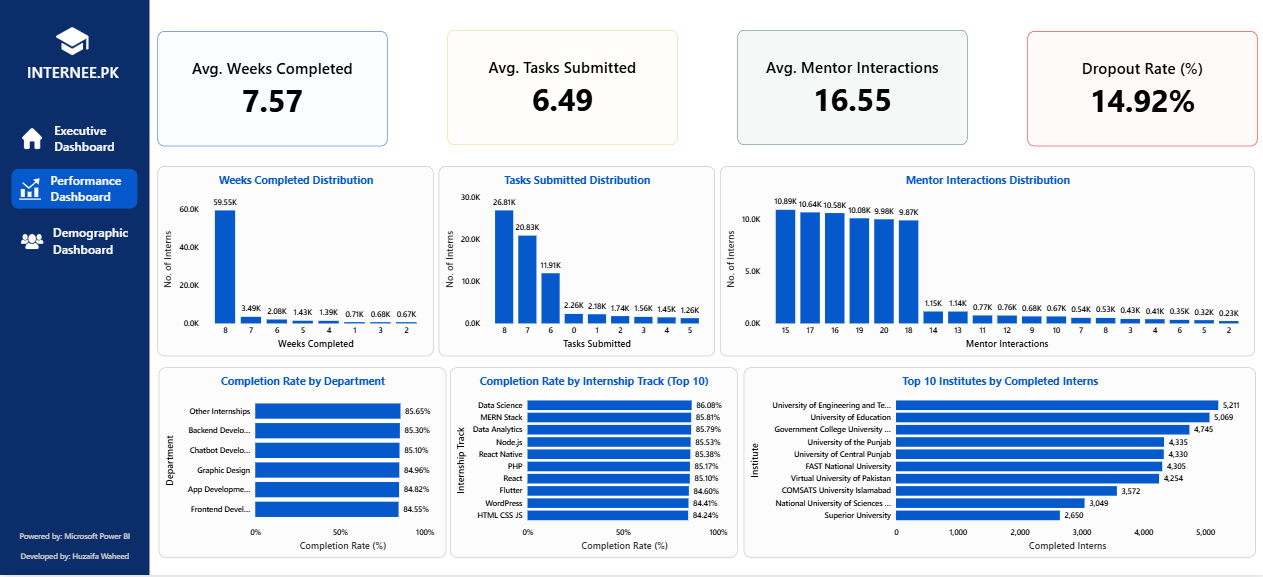

The page's visual inventory and layout, read from the dashboard file:
{"tool":"powerbi","page":{"name":"Performance Dashboard","canvas":[2200,1000],"ordinal":1},"visuals":[{"type":"shape","box":[0,0,260,1000],"z":0},{"type":"image","box":[27.6,308.3,45.7,40],"z":0,"group":"g6"},{"type":"image","box":[32.1,399.7,45.7,40],"z":0,"group":"g4"},{"type":"image","box":[95.7,41.4,60,60],"z":1000},{"type":"shape","box":[19.2,294,219.6,69.6],"z":1000,"group":"g1"},{"type":"textbox","box":[81.6,294,150,70],"z":1000,"group":"g6"},{"type":"textbox","box":[86.4,384,150,70],"z":1000,"group":"g4"},{"type":"textbox","box":[36,102,180,50.4],"z":2000},{"type":"group","id":"g1","title":"Group 4","box":[19.2,294,219.6,69.6],"z":3000},{"type":"group","id":"g2","title":"Group 5","box":[19.2,206.4,220.8,70.8],"z":4000},{"type":"image","box":[31.8,222.1,45.7,40],"z":4000,"group":"g5"},{"type":"textbox","box":[88.9,206.4,150,70],"z":5000,"group":"g5"},{"type":"group","id":"g3","title":"Group 6","box":[19.2,384,220.8,70.8],"z":5000},{"type":"group","id":"g4","title":"Group 3","box":[32.1,384,204.3,70],"z":5000,"group":"g3"},{"type":"cardVisual","fields":{"Data":["internship_program_2025.Average Weeks Completed"]},"box":[273.3,53.3,400,200],"z":6000},{"type":"actionButton","box":[19.2,385.2,220.8,69.6],"z":6000,"group":"g3"},{"type":"cardVisual","fields":{"Data":["internship_program_2025.Dropout Rate"]},"box":[1786.7,53.3,400,200],"z":7000},{"type":"group","id":"g5","title":"Group 1","box":[31.8,206.4,207.1,70],"z":7000,"group":"g2"},{"type":"cardVisual","fields":{"Data":["internship_program_2025.Average Tasks Submitted"]},"box":[777.8,52,400,200],"z":8000},{"type":"actionButton","box":[19.2,207.6,220.8,69.6],"z":8000,"group":"g2"},{"type":"cardVisual","fields":{"Data":["internship_program_2025.Average Mentor Interactions"]},"box":[1282.2,52,400,200],"z":9000},{"type":"group","id":"g6","title":"Group 2","box":[27.6,294,204,69.6],"z":9500,"group":"g1"},{"type":"clusteredColumnChart","title":"Weeks Completed Distribution","fields":{"Y":["internship_program_2025.Total Interns"],"Category":["internship_program_2025.Weeks_Completed"]},"box":[273.8,290,480,330],"z":10000},{"type":"clusteredColumnChart","title":"Tasks Submitted Distribution","fields":{"Y":["internship_program_2025.Total Interns"],"Category":["internship_program_2025.Tasks_Submitted"]},"box":[763.8,290,480,330],"z":11000},{"type":"clusteredColumnChart","title":"Mentor Interactions Distribution","fields":{"Y":["internship_program_2025.Total Interns"],"Category":["internship_program_2025.Mentor_Interactions"]},"box":[1252.5,290,930,330],"z":12000},{"type":"clusteredBarChart","title":"Completion Rate by Department","fields":{"Category":["internship_program_2025.Department"],"Y":["internship_program_2025.Completion Rate"]},"box":[276,640,500,330],"z":13000},{"type":"clusteredBarChart","title":"Completion Rate by Internship Track (Top 10)","fields":{"Category":["internship_program_2025.Internship_Track"],"Y":["internship_program_2025.Completion Rate"]},"box":[782.5,640,500,330],"z":14000},{"type":"clusteredBarChart","title":"Top 10 Institutes by Completed Interns","fields":{"Y":["internship_program_2025.Completed Interns"],"Category":["internship_program_2025.Institute"]},"box":[1292.5,640,890,330],"z":23000}]}

Visuals, with their boxes on the page's 2200x1000 design canvas (x1, y1, x2, y2). These are canvas units, not pixel positions in the 1263x577 screenshot, which may show the page scaled, cropped or inside an application window:
shape: (left=0, top=0, right=260, bottom=1000)
image: (left=28, top=308, right=73, bottom=348)
image: (left=32, top=400, right=78, bottom=440)
image: (left=96, top=41, right=156, bottom=101)
shape: (left=19, top=294, right=239, bottom=364)
textbox: (left=82, top=294, right=232, bottom=364)
textbox: (left=86, top=384, right=236, bottom=454)
textbox: (left=36, top=102, right=216, bottom=152)
"Group 4" group: (left=19, top=294, right=239, bottom=364)
"Group 5" group: (left=19, top=206, right=240, bottom=277)
image: (left=32, top=222, right=78, bottom=262)
textbox: (left=89, top=206, right=239, bottom=276)
"Group 6" group: (left=19, top=384, right=240, bottom=455)
"Group 3" group: (left=32, top=384, right=236, bottom=454)
cardVisual - internship_program_2025.Average Weeks Completed: (left=273, top=53, right=673, bottom=253)
actionButton: (left=19, top=385, right=240, bottom=455)
cardVisual - internship_program_2025.Dropout Rate: (left=1787, top=53, right=2187, bottom=253)
"Group 1" group: (left=32, top=206, right=239, bottom=276)
cardVisual - internship_program_2025.Average Tasks Submitted: (left=778, top=52, right=1178, bottom=252)
actionButton: (left=19, top=208, right=240, bottom=277)
cardVisual - internship_program_2025.Average Mentor Interactions: (left=1282, top=52, right=1682, bottom=252)
"Group 2" group: (left=28, top=294, right=232, bottom=364)
"Weeks Completed Distribution" clusteredColumnChart: (left=274, top=290, right=754, bottom=620)
"Tasks Submitted Distribution" clusteredColumnChart: (left=764, top=290, right=1244, bottom=620)
"Mentor Interactions Distribution" clusteredColumnChart: (left=1252, top=290, right=2182, bottom=620)
"Completion Rate by Department" clusteredBarChart: (left=276, top=640, right=776, bottom=970)
"Completion Rate by Internship Track (Top 10)" clusteredBarChart: (left=782, top=640, right=1282, bottom=970)
"Top 10 Institutes by Completed Interns" clusteredBarChart: (left=1292, top=640, right=2182, bottom=970)
